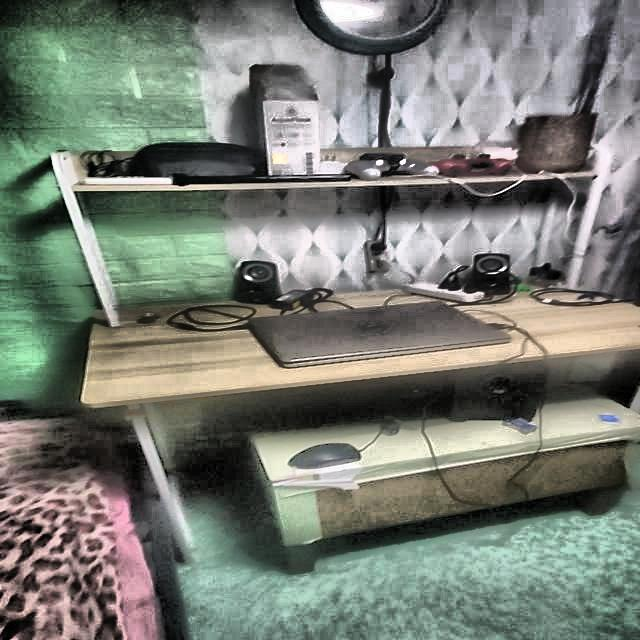mesa: (60, 267, 640, 568)
